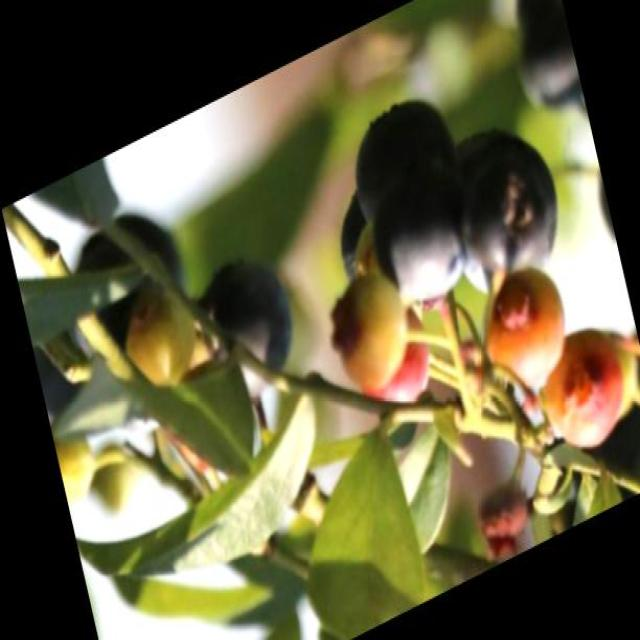blueberry: (433, 107, 567, 306), (61, 190, 198, 375), (185, 228, 307, 416), (340, 75, 468, 243), (374, 174, 478, 319), (496, 0, 582, 124), (327, 185, 378, 286)
blueberry-halfripe: (527, 312, 632, 469), (473, 258, 575, 407)
blueberry-unripe: (320, 261, 410, 403), (115, 278, 205, 404)
